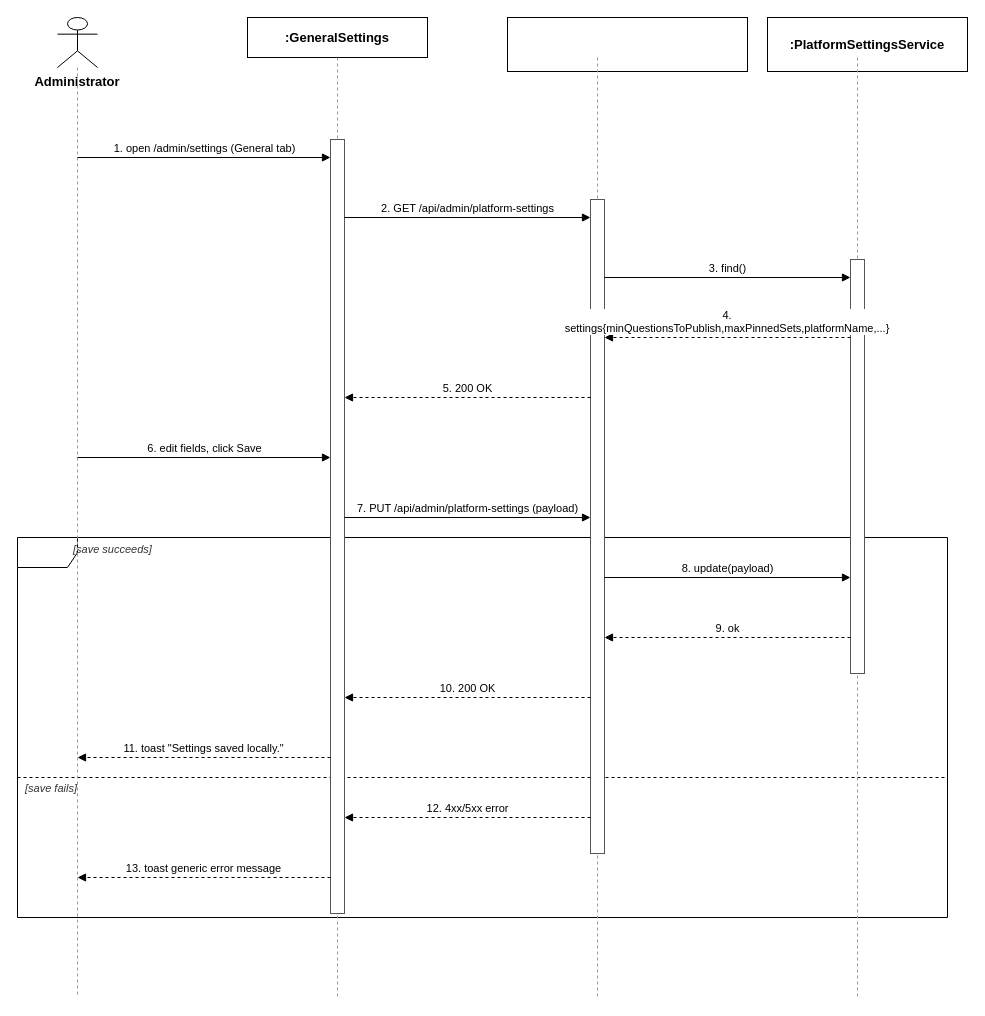
The diagram is 985 pixels wide and 1016 high, and some of its shapes have lost their labels. The shapes that lost their labels are listed below. From the top down, each one's box as (x1, y1, x2, y2) in pixels, then its label:
(506, 16, 748, 72): :AdminPlatformSettingsController
(16, 536, 948, 918): alt
